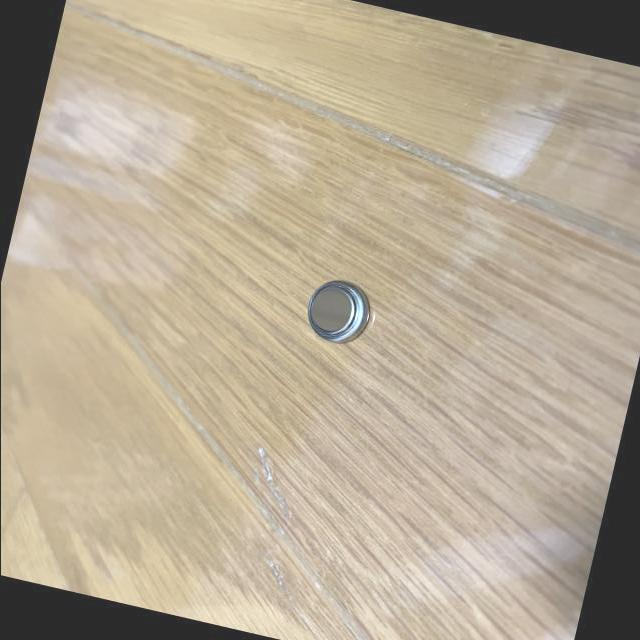COIN: (302, 273, 376, 347)
